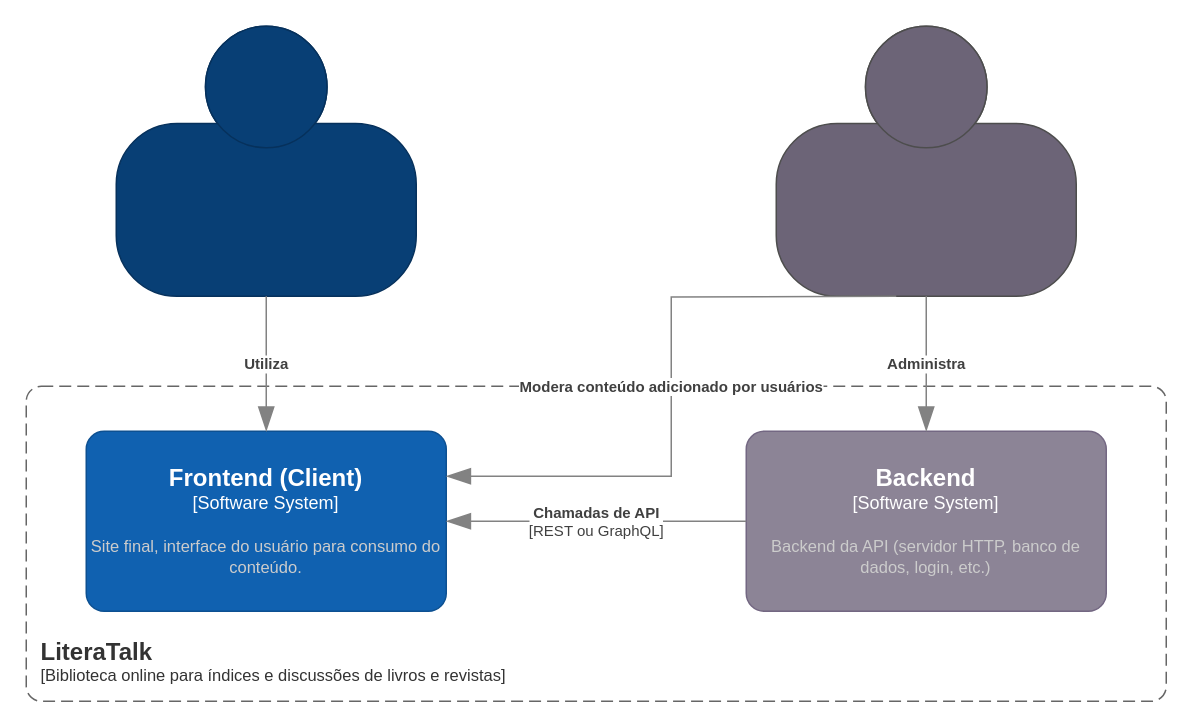
Some shapes in this 1193 by 728 pixel diagram are drawn without their labels. Each missing label, with the box of its shape:
Administrador [Persona] Administrador do sistema: (775, 25, 1076, 296)
Usuário [Persona] Usuário registrado: (115, 25, 416, 296)
